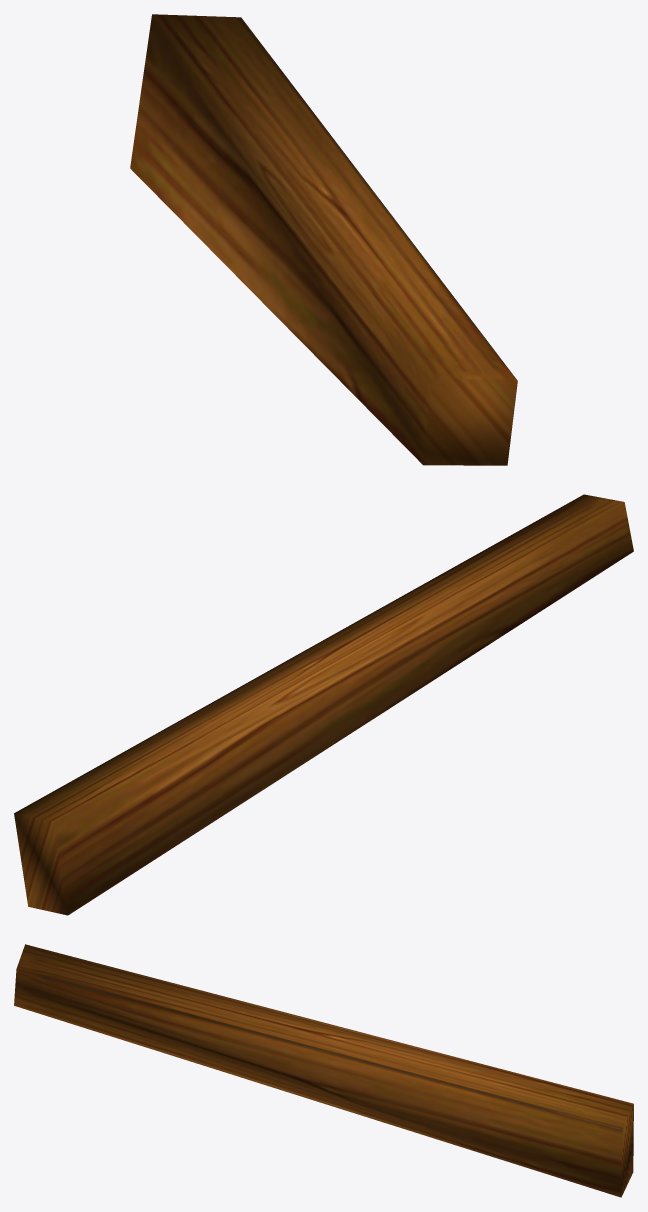
The model's file is wood06.FBX.
3 views of the same model, one above another, from view 1: azimuth 30°, elevation 25°; view 2: azimuth 150°, elevation 25°; view 3: azimuth 270°, elevation 25° (orthographic). The views are drawn at different scales.
Parts seen in each view (by area): view 1: Object166; view 2: Object166; view 3: Object166.
Boxes of the visible parts, x1,y1,x2,y2 form: Object166: [130, 14, 517, 465]; Object166: [14, 494, 633, 915]; Object166: [14, 944, 633, 1197].
Size of the model in its own units: 58.03 by 42.59 by 149.
